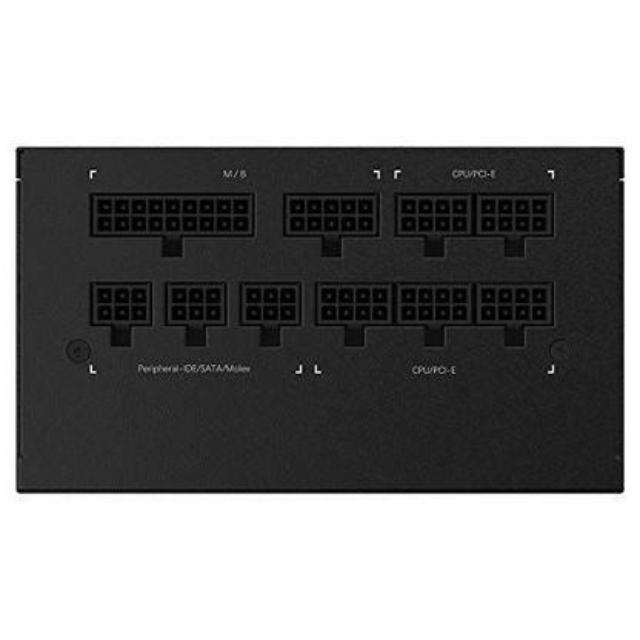PSU: (6, 128, 638, 508)
